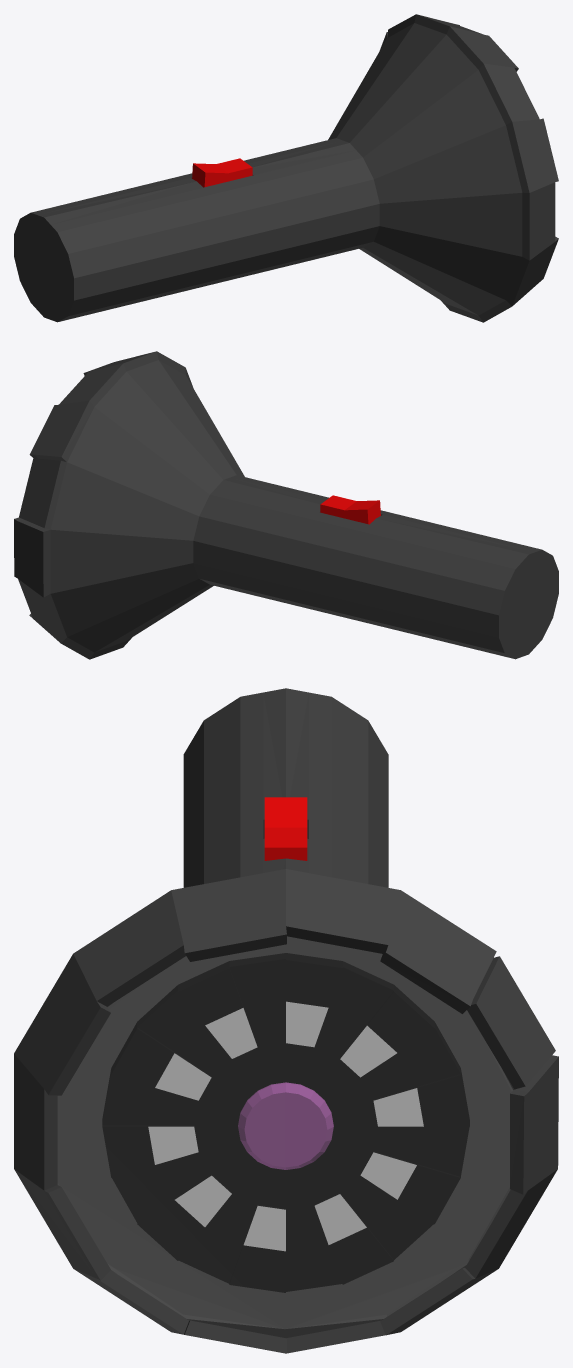
File: Flashlignt_Model.fbx
The picture shows the model from 3 angles, top to bottom: view 1: azimuth 30°, elevation 25°; view 2: azimuth 150°, elevation 25°; view 3: azimuth 270°, elevation 25°; orthographic projection. The views are drawn at different scales.
Visible parts, largest first — view 1: pCylinder5; view 2: pCylinder5; view 3: pCylinder5.
Boxes of the visible parts, <box> form: pCylinder5: <box>14,14,558,322</box>; pCylinder5: <box>14,351,558,659</box>; pCylinder5: <box>14,688,558,1353</box>.
Size of the model in its own units: 7.3 by 4.45 by 4.54.
